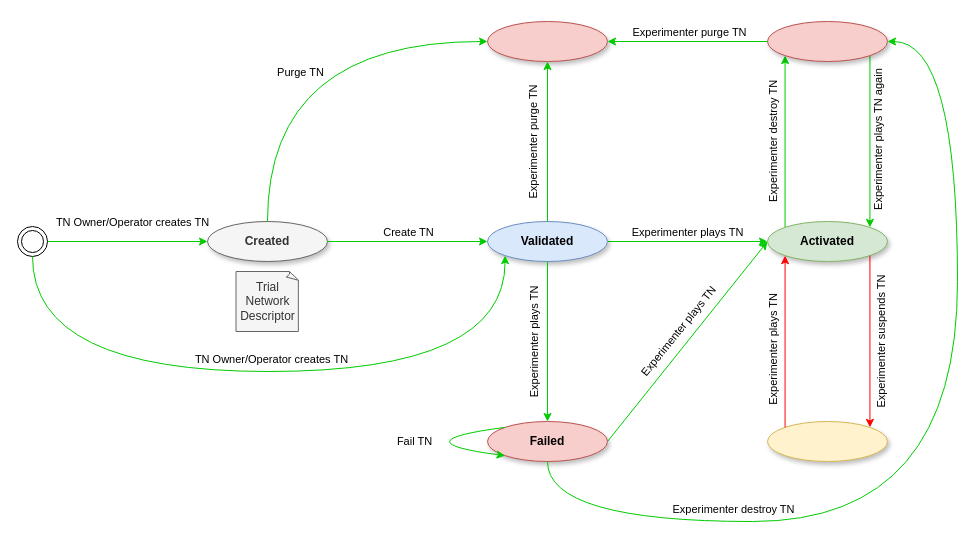
Image size: 975x539. Some labels were removed from this diagram. Each missing label, with the centre of its shape:
"Destroyed" goes at (828,42).
"Purge" goes at (548,42).
"Suspended" goes at (828,442).
